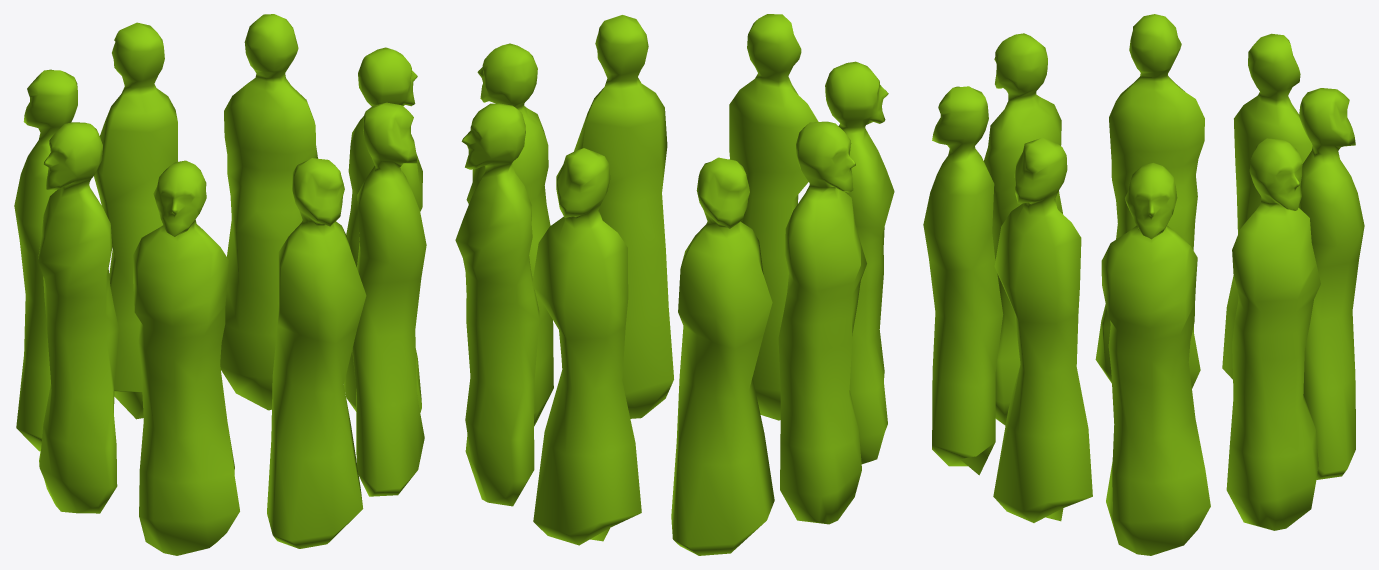
Rendered from Statues_Grp_04_Lod1.fbx.
3 renders of one model, left to right at view 1: azimuth 30°, elevation 25°; view 2: azimuth 150°, elevation 25°; view 3: azimuth 270°, elevation 25°, orthographic. The views are drawn at different scales.
Visible parts, largest first — view 1: Statues_Grp_04_Lod1; view 2: Statues_Grp_04_Lod1; view 3: Statues_Grp_04_Lod1.
Boxes of the visible parts, box(x1,y1,x2,y2) form: Statues_Grp_04_Lod1: box(14, 14, 426, 555); Statues_Grp_04_Lod1: box(455, 14, 894, 555); Statues_Grp_04_Lod1: box(923, 14, 1364, 555).
Size of the model in its own units: 215 by 209 by 217.
